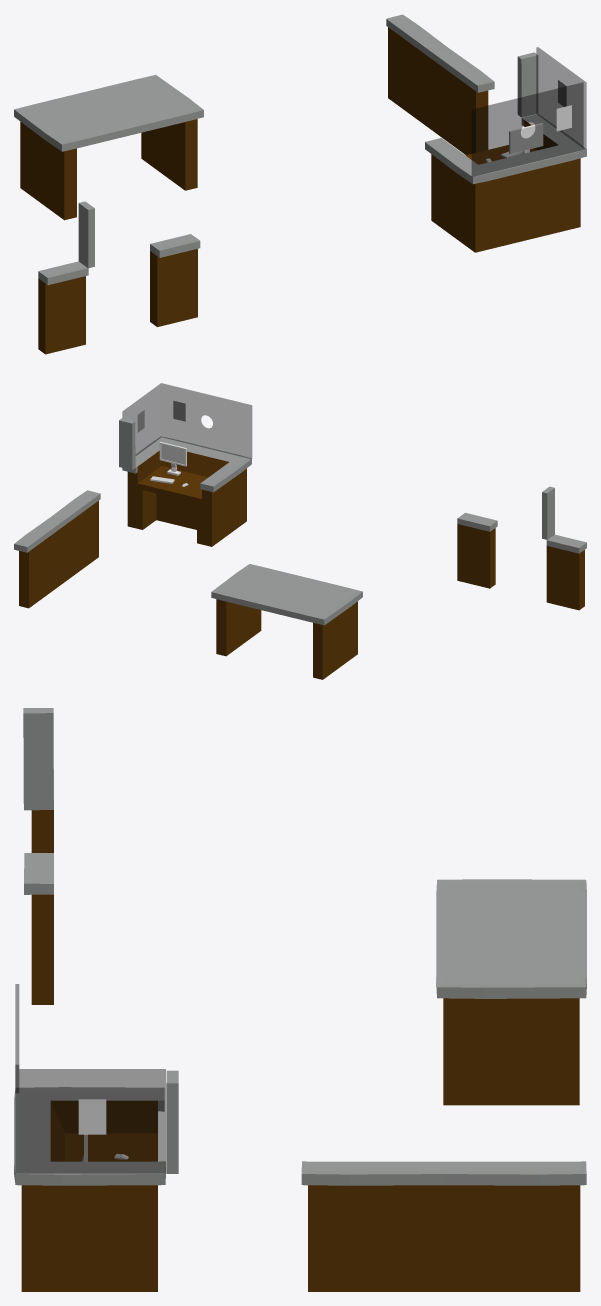
File: Lanchonete_Caixa.fbx
3 views of the same model, one above another, from view 1: azimuth 30°, elevation 25°; view 2: azimuth 150°, elevation 25°; view 3: azimuth 270°, elevation 25° (orthographic). The views are drawn at different scales.
Visible parts, largest first — view 1: Balcão, Bancada_Caixa, Divisoria_Caixa, Vidro, Divisoria_Entrega1, Divisoria_Entrega2, Portinha_Caixa, Portinha_Entrega, Monitor; view 2: Balcão, Bancada_Caixa, Vidro, Divisoria_Caixa, Divisoria_Entrega1, Divisoria_Entrega2, Portinha_Caixa, Portinha_Entrega; view 3: Divisoria_Caixa, Balcão, Bancada_Caixa, Vidro, Divisoria_Entrega1, Portinha_Entrega, Portinha_Caixa, Divisoria_Entrega2, Aviso.
Part boxes in pixels (x1,y1,x2,y2): Balcão: (14,75,203,220); Bancada_Caixa: (425,114,586,252); Divisoria_Caixa: (386,14,494,154); Vidro: (472,47,586,176); Divisoria_Entrega1: (150,234,200,326); Divisoria_Entrega2: (38,261,88,354); Portinha_Caixa: (517,52,538,117); Portinha_Entrega: (78,201,94,268); Monitor: (509,123,543,153); Balcão: (211,564,362,679); Bancada_Caixa: (122,436,251,546); Vidro: (122,383,251,458); Divisoria_Caixa: (14,490,100,608); Divisoria_Entrega1: (457,512,497,588); Divisoria_Entrega2: (546,534,586,610); Portinha_Caixa: (119,418,135,469); Portinha_Entrega: (542,486,554,539); Divisoria_Caixa: (301,1161,586,1291); Balcão: (436,879,586,1105); Bancada_Caixa: (14,1087,165,1291); Vidro: (15,984,165,1173); Divisoria_Entrega1: (24,853,53,1004); Portinha_Entrega: (23,708,53,803); Portinha_Caixa: (166,1070,178,1173); Divisoria_Entrega2: (24,769,53,852); Aviso: (78,1099,106,1134).
Size of the model in its own units: 711 by 183 by 424.
